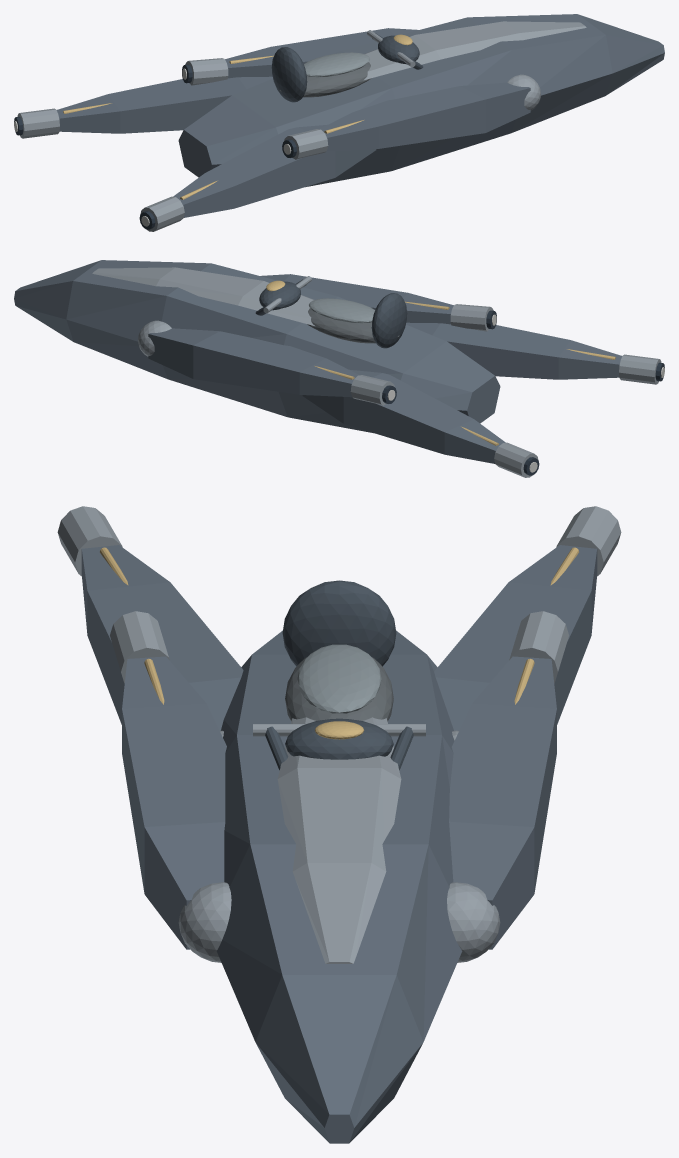
The model's file is busan_pulse_graphite_folded.glb.
3 renders of one model, top to bottom at view 1: azimuth 30°, elevation 25°; view 2: azimuth 150°, elevation 25°; view 3: azimuth 270°, elevation 25°, orthographic. The views are drawn at different scales.
Visible parts, largest first — view 1: center_hull_0, rear_wings_7, front_wings_12, central_panel_1, wing_tip_turbine_8, seat_back_3, saddle_pad_13, saddle_2, instrument_cluster_14, wing_tip_nozzle_9, wing_hinges_6, wing_accents_11; view 2: center_hull_0, rear_wings_7, front_wings_12, central_panel_1, wing_tip_turbine_8, seat_back_3, saddle_pad_13, saddle_2, instrument_cluster_14, wing_tip_nozzle_9, wing_hinges_6, wing_accents_11; view 3: center_hull_0, front_wings_12, rear_wings_7, central_panel_1, wing_tip_turbine_8, seat_back_3, wing_hinges_6, saddle_pad_13, instrument_cluster_14, saddle_2, wing_accents_11, handle_support_5.
Boxes of the visible parts, <box> form: center_hull_0: <box>178,14,664,187</box>; rear_wings_7: <box>56,76,376,217</box>; front_wings_12: <box>225,28,530,151</box>; central_panel_1: <box>364,21,586,79</box>; wing_tip_turbine_8: <box>17,58,328,231</box>; seat_back_3: <box>271,47,307,102</box>; saddle_pad_13: <box>303,52,369,77</box>; saddle_2: <box>279,62,371,97</box>; instrument_cluster_14: <box>378,35,419,64</box>; wing_tip_nozzle_9: <box>14,64,296,229</box>; wing_hinges_6: <box>507,74,540,110</box>; wing_accents_11: <box>63,55,363,199</box>; center_hull_0: <box>14,260,500,433</box>; rear_wings_7: <box>302,322,622,463</box>; front_wings_12: <box>148,274,453,397</box>; central_panel_1: <box>92,267,314,325</box>; wing_tip_turbine_8: <box>350,304,661,477</box>; seat_back_3: <box>371,293,407,348</box>; saddle_pad_13: <box>309,298,375,323</box>; saddle_2: <box>307,308,399,343</box>; instrument_cluster_14: <box>259,281,300,310</box>; wing_tip_nozzle_9: <box>382,310,664,475</box>; wing_hinges_6: <box>138,320,171,356</box>; wing_accents_11: <box>315,301,615,445</box>; center_hull_0: <box>216,630,462,1143</box>; front_wings_12: <box>122,656,556,949</box>; rear_wings_7: <box>81,545,597,730</box>; central_panel_1: <box>277,717,401,963</box>; wing_tip_turbine_8: <box>57,506,621,682</box>; seat_back_3: <box>282,580,396,666</box>; wing_hinges_6: <box>178,730,500,962</box>; saddle_pad_13: <box>297,644,381,713</box>; instrument_cluster_14: <box>285,718,393,759</box>; saddle_2: <box>285,657,393,721</box>; wing_accents_11: <box>100,547,578,704</box>; handle_support_5: <box>265,726,413,770</box>.
Bounding box in the file's own units: 5.43 × 1.1 × 2.28.
